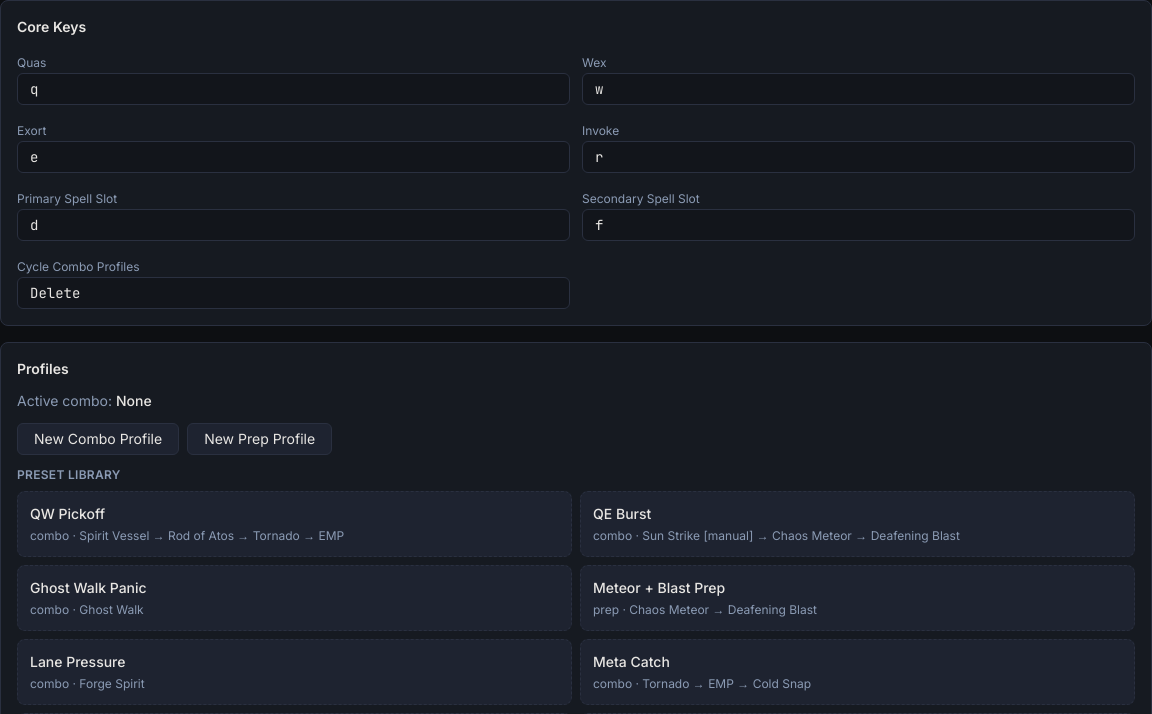
InvokerConfig › renders and persists the cycle combo profiles hotkey
Step 1. Click the button "Delete" → (55, 293), box [17,277,570,309]
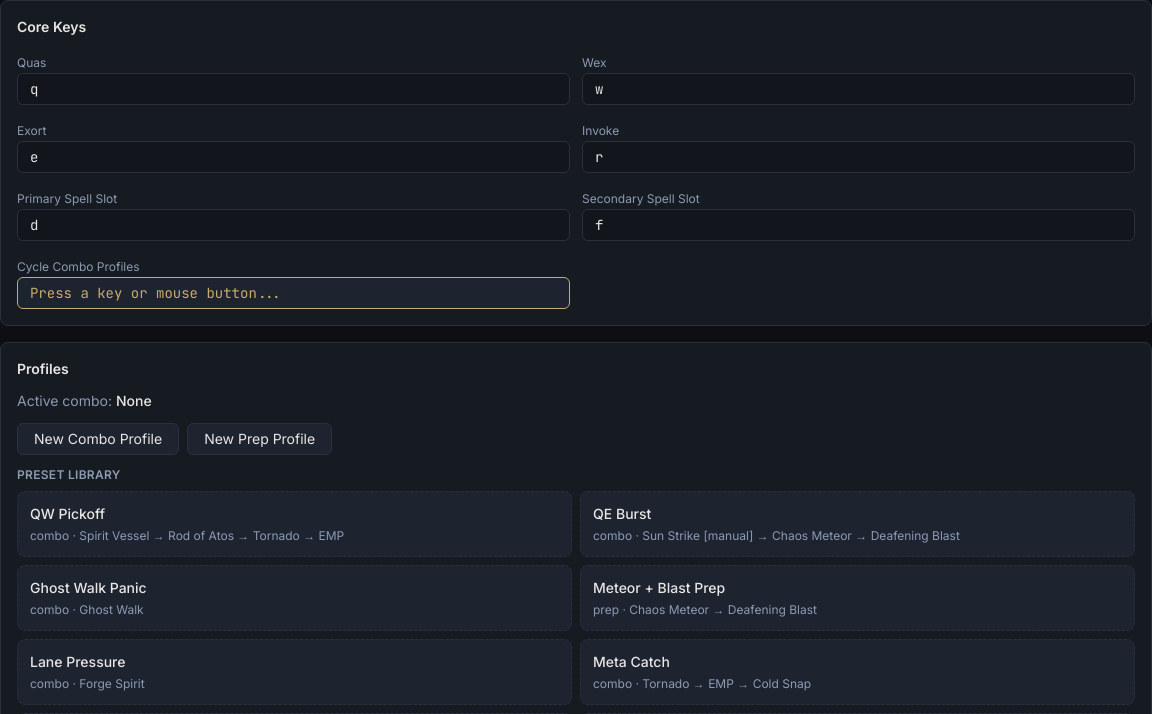
Step 2. Press F10 in the button "Press a key or mouse button...", box [17,277,570,309]
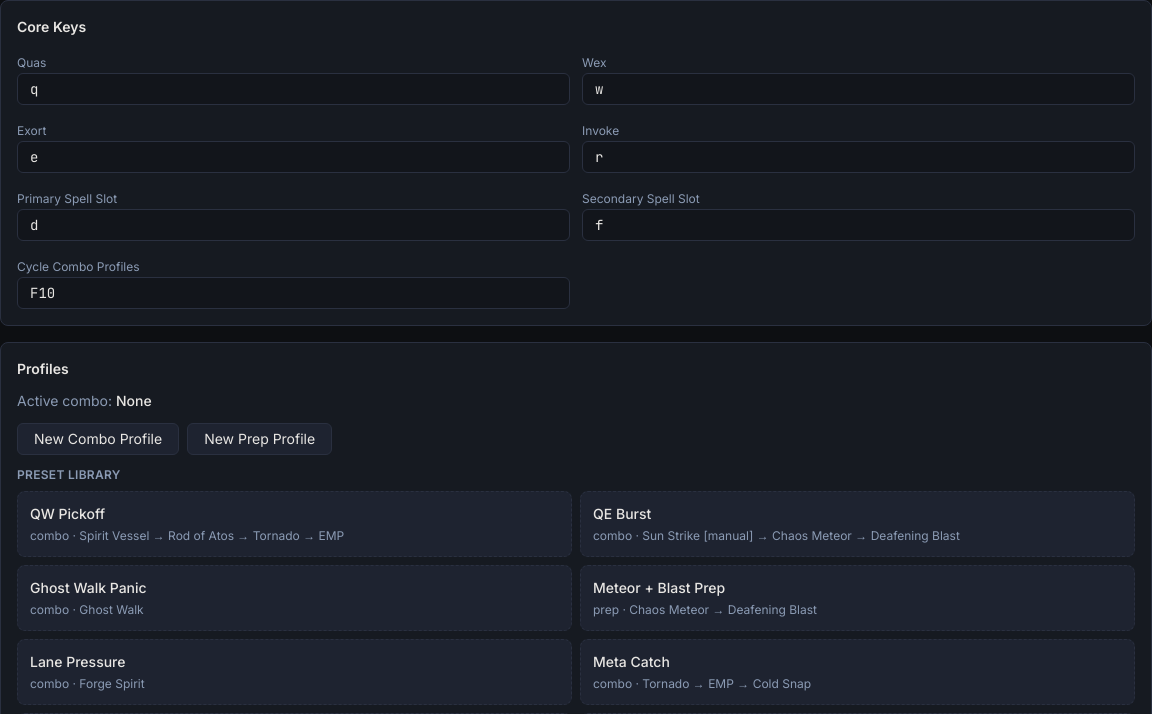
Now the button "F10" is shown, box [17,277,570,309]
